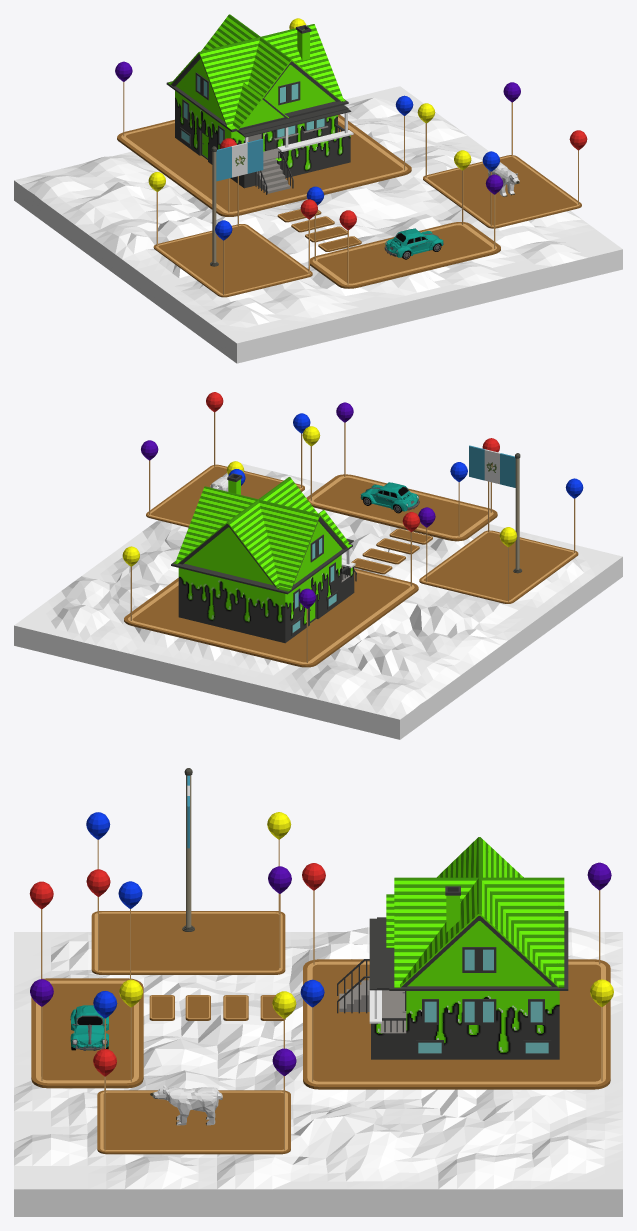
3 renders of one model, top to bottom at view 1: azimuth 30°, elevation 25°; view 2: azimuth 150°, elevation 25°; view 3: azimuth 270°, elevation 25°, orthographic. The views are drawn at different scales.
Visible parts, largest first — view 1: Cube.013, Cube.754, OBJRANDOM_GUATEMALAN_FLAG, VEHICLES_VOLKSWAGEN, ANIMAL_OSO_POLAR; view 2: Cube.013, Cube.754, OBJRANDOM_GUATEMALAN_FLAG, VEHICLES_VOLKSWAGEN; view 3: Cube.013, Cube.754, ANIMAL_OSO_POLAR, VEHICLES_VOLKSWAGEN, OBJRANDOM_GUATEMALAN_FLAG.
Boxes of the visible parts, x1,y1,x2,y2 form: Cube.013: (14, 18, 622, 363); Cube.754: (166, 14, 353, 194); OBJRANDOM_GUATEMALAN_FLAG: (210, 139, 263, 266); VEHICLES_VOLKSWAGEN: (384, 228, 443, 259); ANIMAL_OSO_POLAR: (488, 162, 519, 196); Cube.013: (14, 392, 622, 739); Cube.754: (171, 473, 356, 643); OBJRANDOM_GUATEMALAN_FLAG: (469, 445, 521, 573); VEHICLES_VOLKSWAGEN: (360, 482, 419, 513); Cube.013: (14, 812, 622, 1216); Cube.754: (337, 837, 568, 1059); ANIMAL_OSO_POLAR: (150, 1085, 222, 1125); VEHICLES_VOLKSWAGEN: (70, 1005, 108, 1050); OBJRANDOM_GUATEMALAN_FLAG: (182, 768, 194, 931).
Bounding box in the file's own units: 4000 × 1710 × 4000.
Materials: 36 (3 with a texture image).
